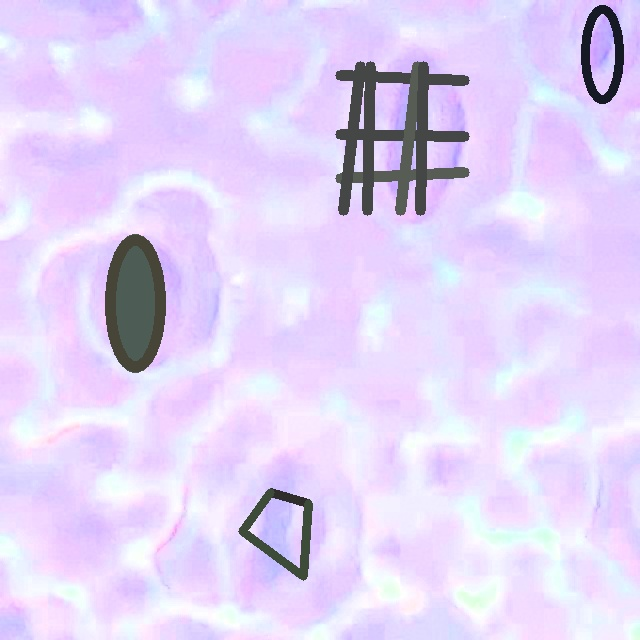open: (336, 62, 468, 214), (105, 234, 165, 372), (238, 488, 312, 580), (580, 4, 623, 104)
